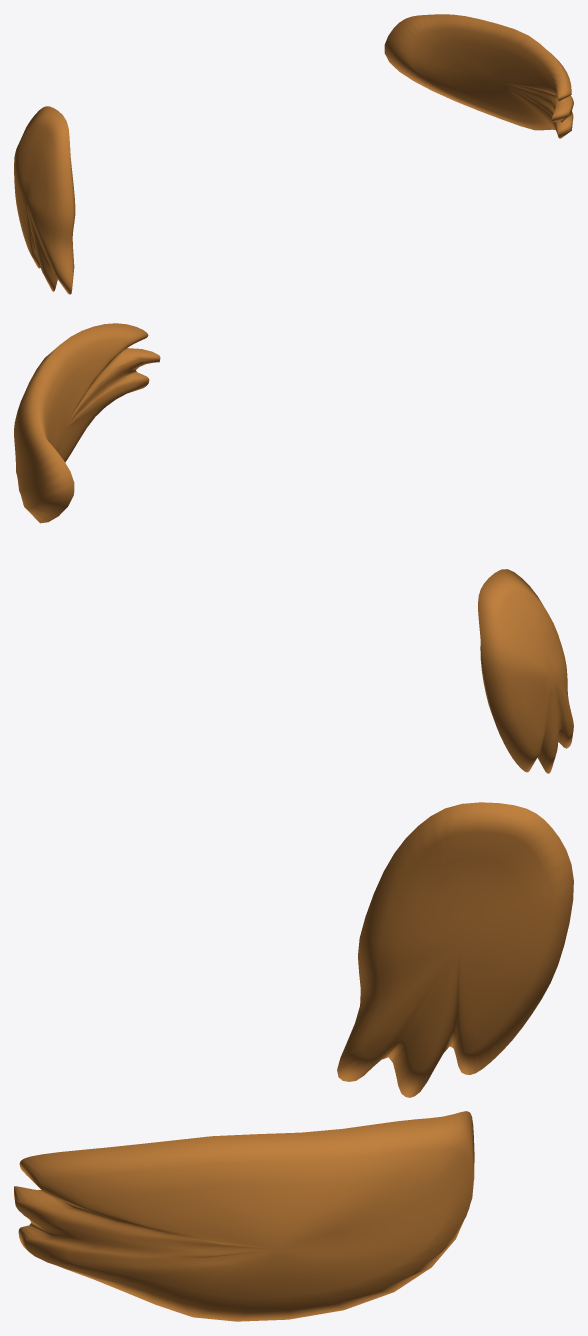
Rendered from species-grips-duck-aim-only.glb.
The picture shows the model from 3 angles, top to bottom: view 1: azimuth 30°, elevation 25°; view 2: azimuth 150°, elevation 25°; view 3: azimuth 270°, elevation 25°; orthographic projection. The views are drawn at different scales.
Parts seen in each view (by area): view 1: duck_rightArm_mesh, duck_leftArm_mesh; view 2: duck_rightArm_mesh, duck_leftArm_mesh; view 3: duck_rightArm_mesh, duck_leftArm_mesh.
Part boxes in pixels (<box>): duck_rightArm_mesh: <box>384,14,573,138</box>; duck_leftArm_mesh: <box>14,106,75,294</box>; duck_rightArm_mesh: <box>14,323,160,523</box>; duck_leftArm_mesh: <box>478,569,573,773</box>; duck_rightArm_mesh: <box>14,1111,474,1321</box>; duck_leftArm_mesh: <box>337,802,573,1097</box>.
Bounding box in the file's own units: 1.21 × 0.4776 × 0.6512.
